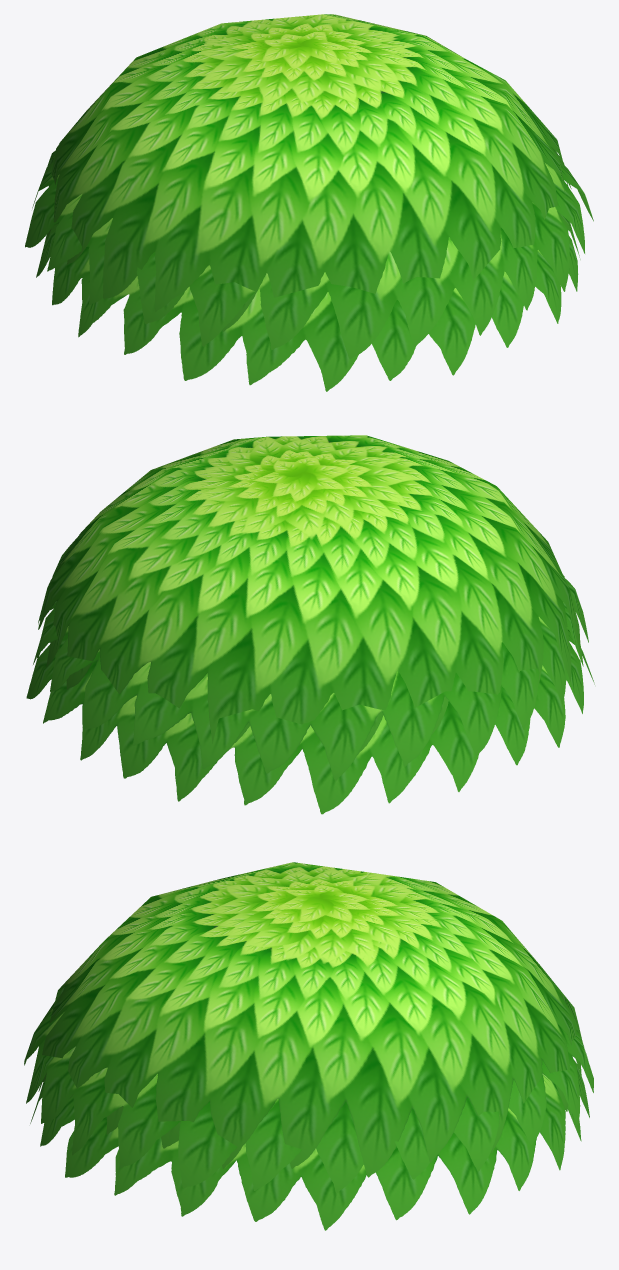
File: Bush 1.fbx
3 renders of one model, top to bottom at view 1: azimuth 30°, elevation 25°; view 2: azimuth 150°, elevation 25°; view 3: azimuth 270°, elevation 25°, orthographic.
Parts seen in each view (by area): view 1: Bush2, Bush, Bush3; view 2: Bush2, Bush, Bush3; view 3: Bush2, Bush, Bush3.
Boxes of the visible parts, x1,y1,x2,y2 form: Bush2: [45, 14, 567, 331]; Bush: [25, 147, 593, 359]; Bush3: [36, 212, 580, 391]; Bush2: [38, 435, 580, 755]; Bush: [33, 575, 588, 780]; Bush3: [26, 629, 594, 814]; Bush2: [42, 862, 583, 1177]; Bush: [24, 1002, 593, 1193]; Bush3: [30, 1060, 589, 1230].
Bounding box in the file's own units: 7.81 × 3.61 × 8.09.
Materials: 1 (1 with a texture image).
